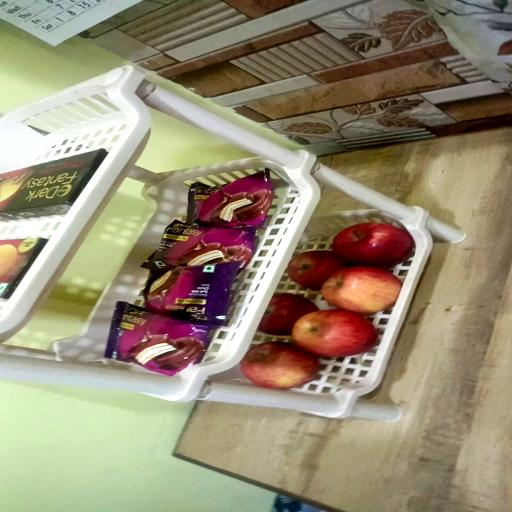Apple: (292, 310, 377, 358), (321, 266, 402, 314), (240, 342, 319, 390), (332, 223, 414, 268), (258, 293, 318, 336), (287, 250, 345, 290)
Choco Fills: (0, 149, 108, 219), (0, 238, 46, 299)
Choco Pie: (104, 302, 210, 376), (141, 219, 256, 273), (145, 262, 238, 326), (189, 168, 273, 227)
